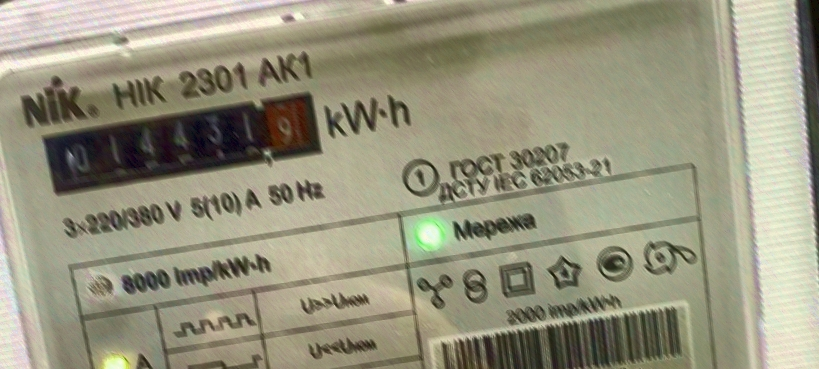0: (70, 139, 94, 174)
1: (105, 130, 127, 165), (240, 109, 257, 142)
3: (204, 113, 226, 147)
4: (135, 123, 160, 158), (170, 116, 192, 152)
9: (275, 112, 296, 145)
screen: (34, 83, 337, 204)
